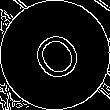O_SE: (22, 22, 88, 88)
